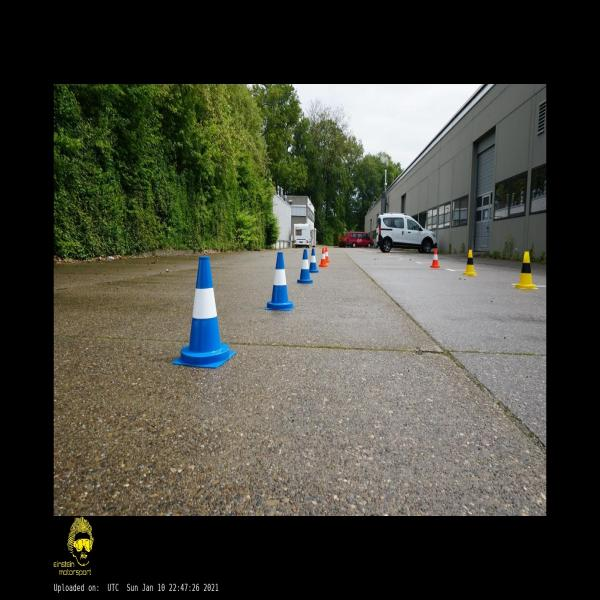blue_cone: (172, 257, 236, 368), (265, 253, 294, 310), (297, 250, 313, 283), (310, 249, 318, 272)
orange_cone: (430, 249, 439, 268), (320, 248, 328, 266), (326, 248, 329, 262)
yellow_cone: (515, 251, 536, 290), (464, 251, 476, 276)
